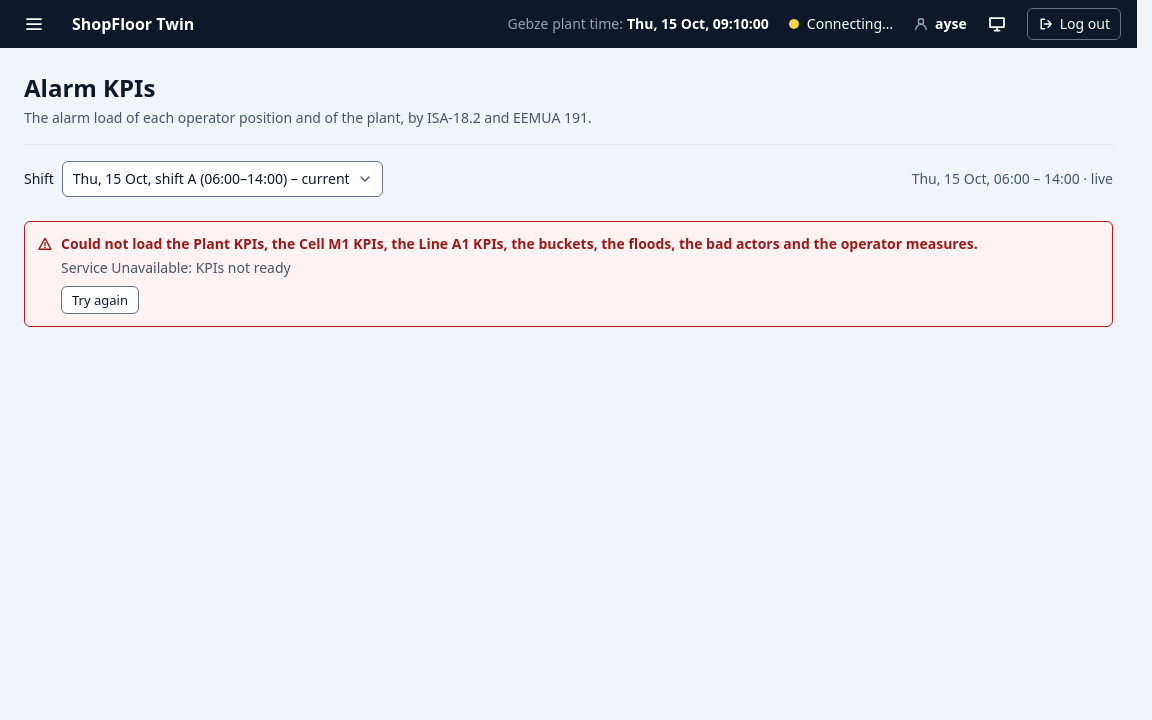
it: alarm KPI page › says one error when every KPI read fails, the sections not drawn, one retry for all (#394)
Expected: the 2nd message shows "Could not load the Plant KPIs, the Cell M1 KPIs, the Line A1 KPIs, the buckets, the floods, the bad actors and the operator measures.", [61, 234, 978, 253]
Expected: the text "Service Unavailable: KPIs not ready" is shown once, [61, 258, 291, 277]
Step 1. Click the button "Try again" → (100, 300), box [61, 286, 139, 314]
(page scrolled)
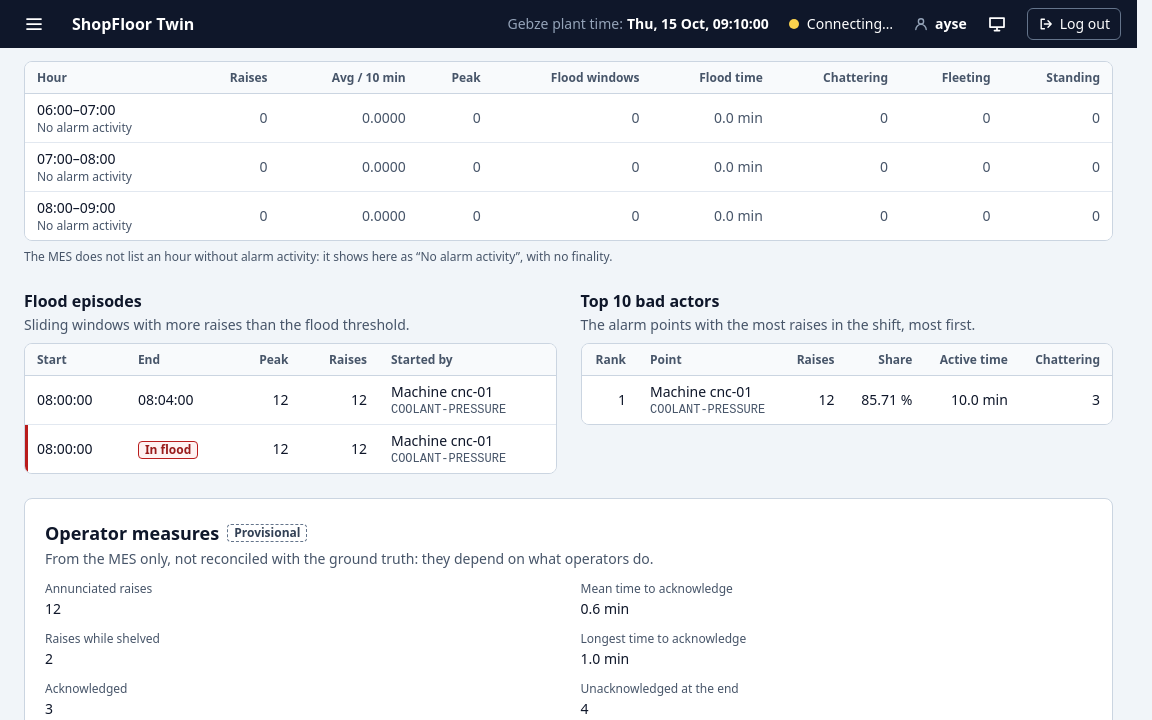
Result: the table with test id "kpi-floods" is shown at [25, 344, 556, 473]
